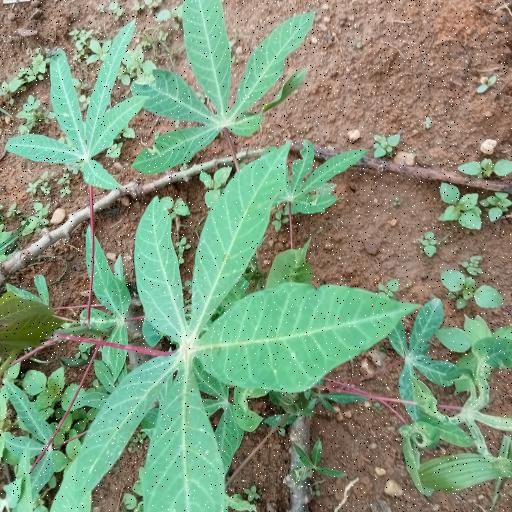Cassava_Mosaic: (83, 158, 358, 499)
